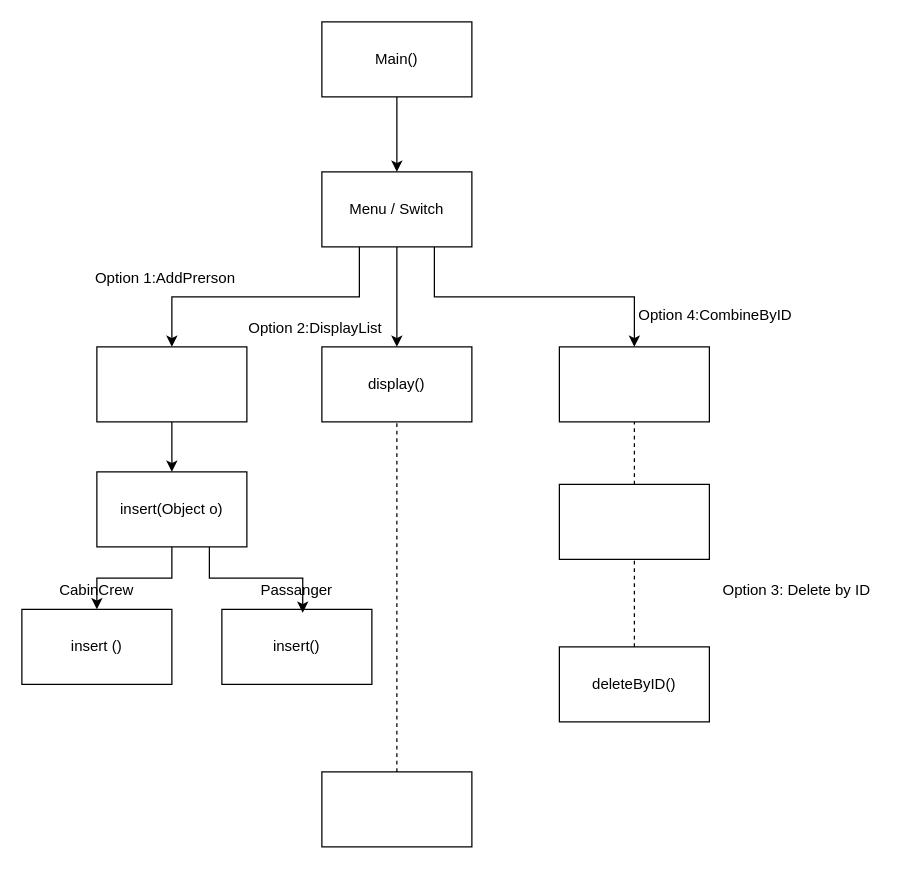
The diagram is 906 pixels wide and 869 high, and some of its shapes have lost their labels. The centre of each missing label's shape, as x and y in pixels:
addPerson(): point (171, 384)
combineById(): point (633, 384)
deleteEverywhere(): point (633, 521)
displayList(): point (396, 809)
